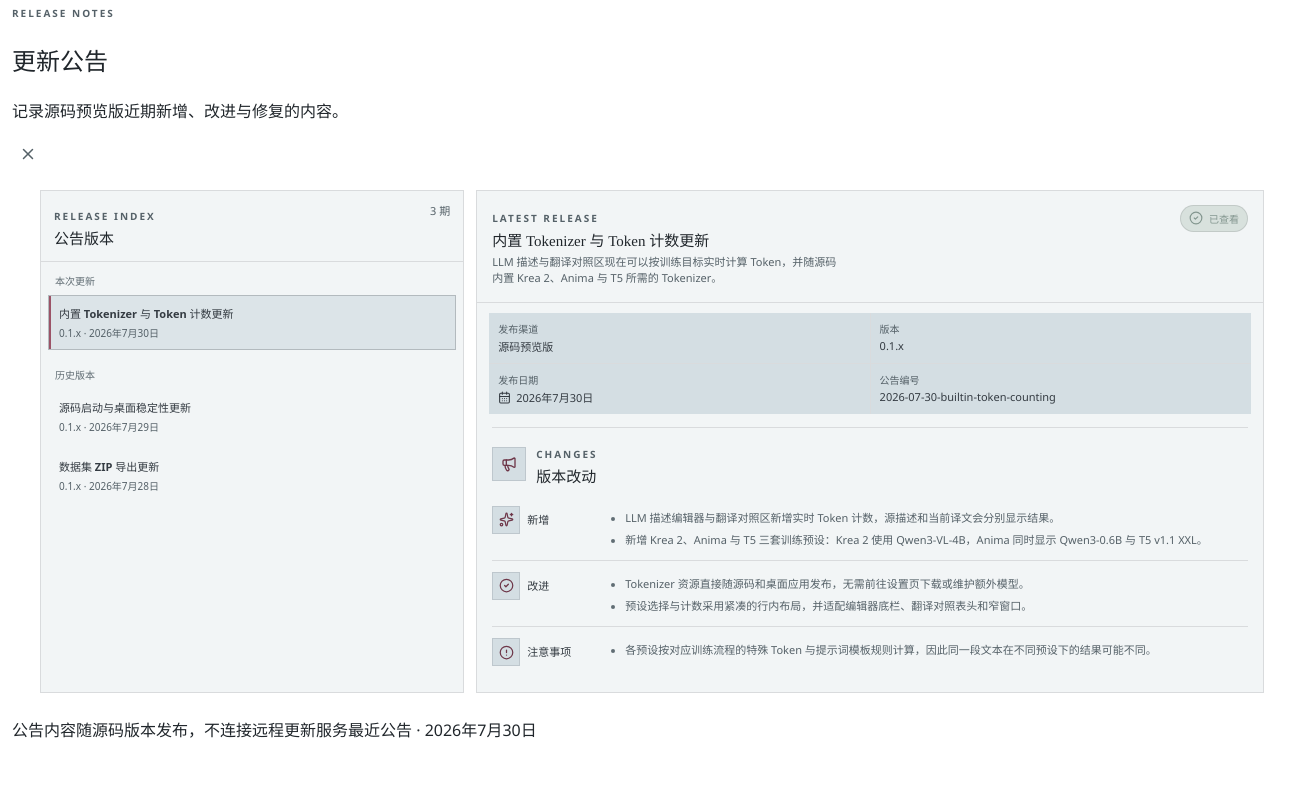
Test: update announcements › shows the latest and historical notes and records the latest note as read
Expected: the heading "本次更新" is shown, [55,274,95,288]
Expected: the heading "内置 Tokenizer 与 Token 计数更新" is shown, [492,234,709,250]
Click the button with aria-label "查看数据集 ZIP 导出更新": (109,466) [48,448,456,503]
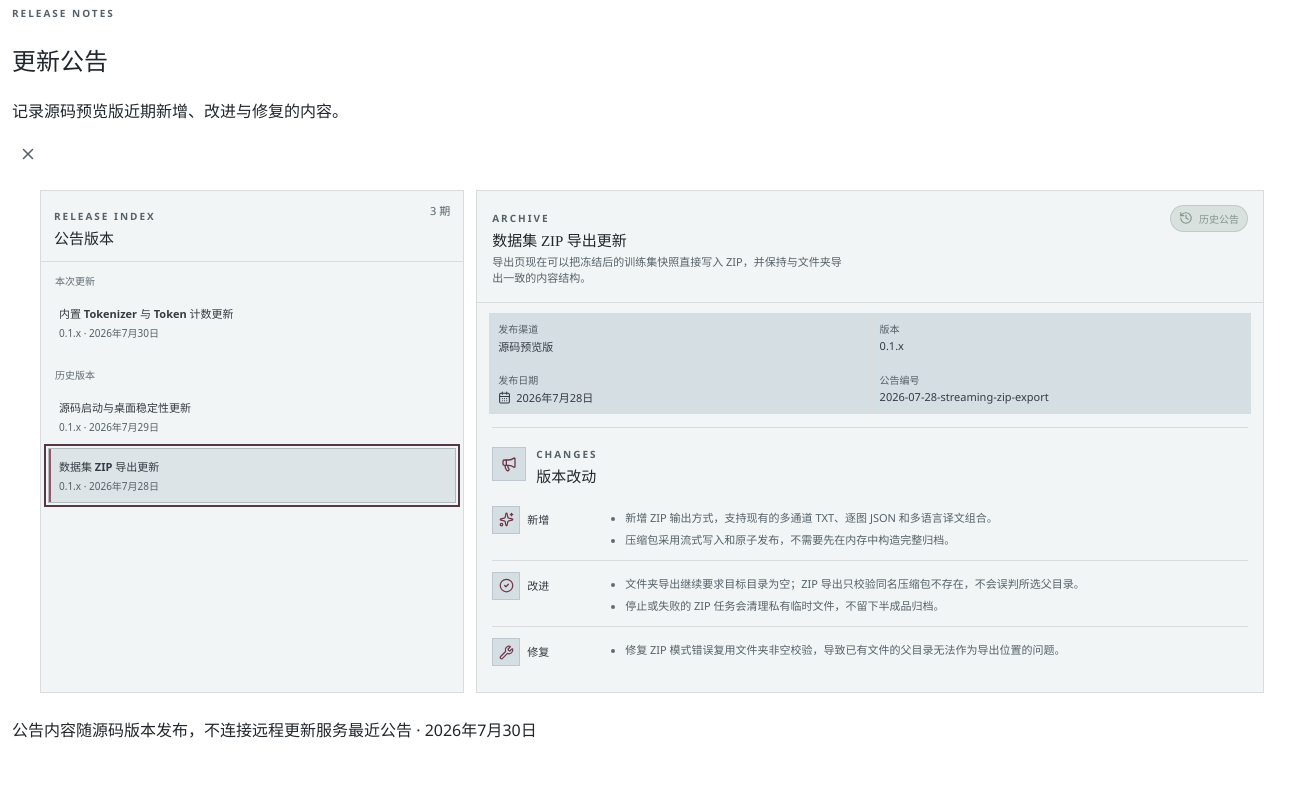
Now the heading "数据集 ZIP 导出更新" is shown, box [492,234,627,250]
Now the list item "文件夹导出继续要求目标目录为空；ZIP 导出只校验同名压缩包不存在，不会误判所选父目录。" is shown, box [625,577,1085,592]
